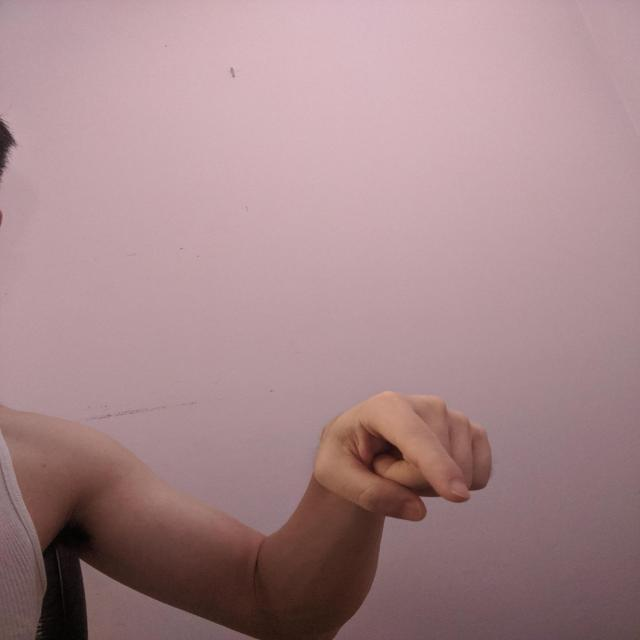Z: (306, 386, 499, 526)
